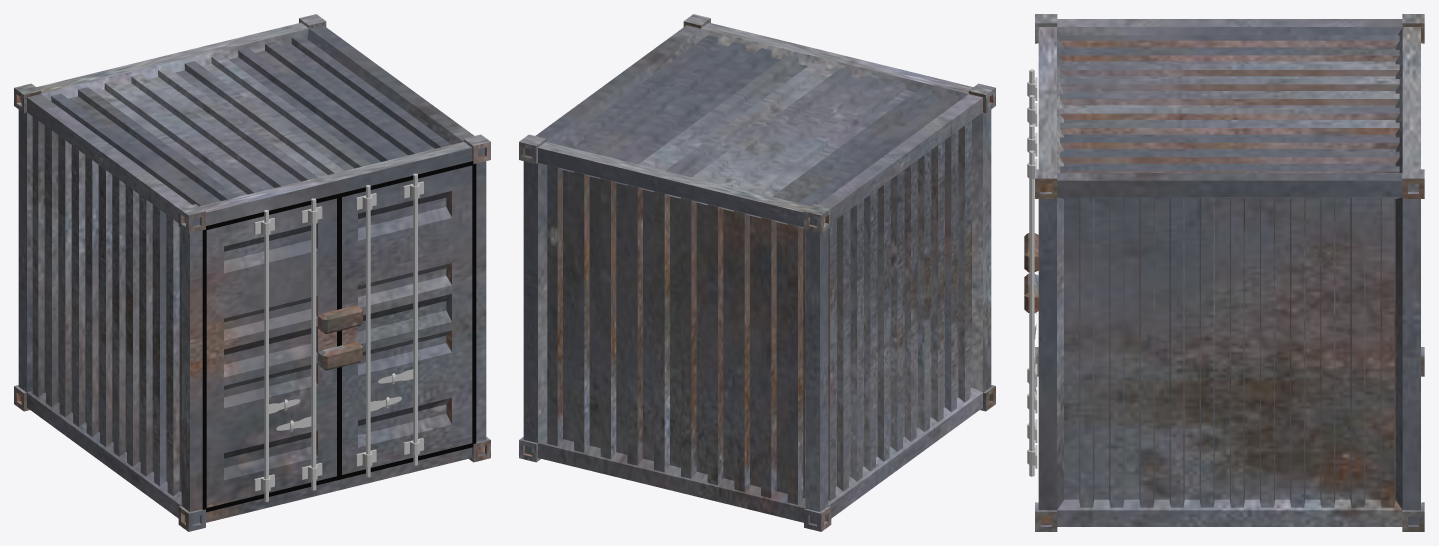
The picture shows the model from 3 angles, left to right: view 1: azimuth 30°, elevation 25°; view 2: azimuth 150°, elevation 25°; view 3: azimuth 270°, elevation 25°; orthographic projection. The views are drawn at different scales.
Visible parts, largest first — view 1: 集装箱, 门闩, 门框; view 2: 集装箱; view 3: 集装箱, 门闩.
Part boxes in pixels (box(x1,y1,x2,y2)): 集装箱: box(14, 14, 490, 531); 门闩: box(254, 173, 423, 501); 门框: box(202, 161, 476, 512); 集装箱: box(519, 14, 995, 531); 集装箱: box(1024, 14, 1424, 531); 门闩: box(1027, 69, 1037, 476).
Size of the model in its own units: 321 by 321 by 330.
